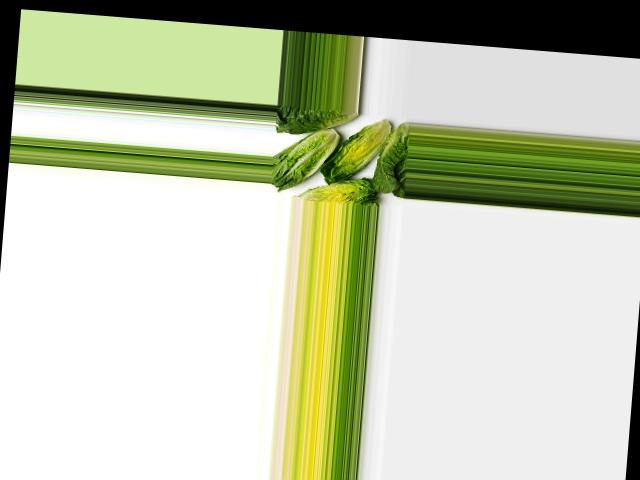lettuce: (369, 122, 411, 198)
